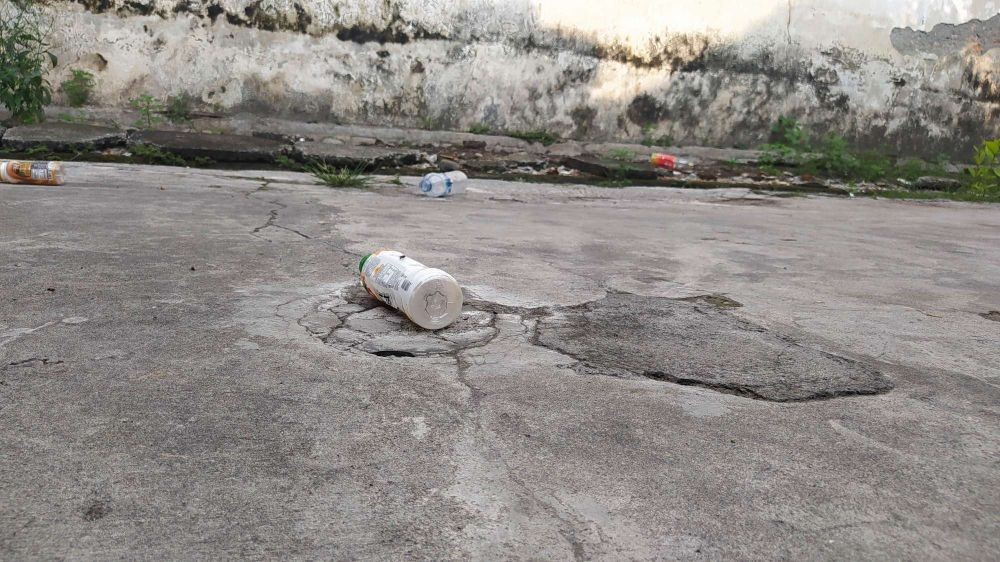botol: (352, 242, 470, 336), (1, 142, 80, 196), (405, 156, 484, 208), (649, 143, 703, 183)
